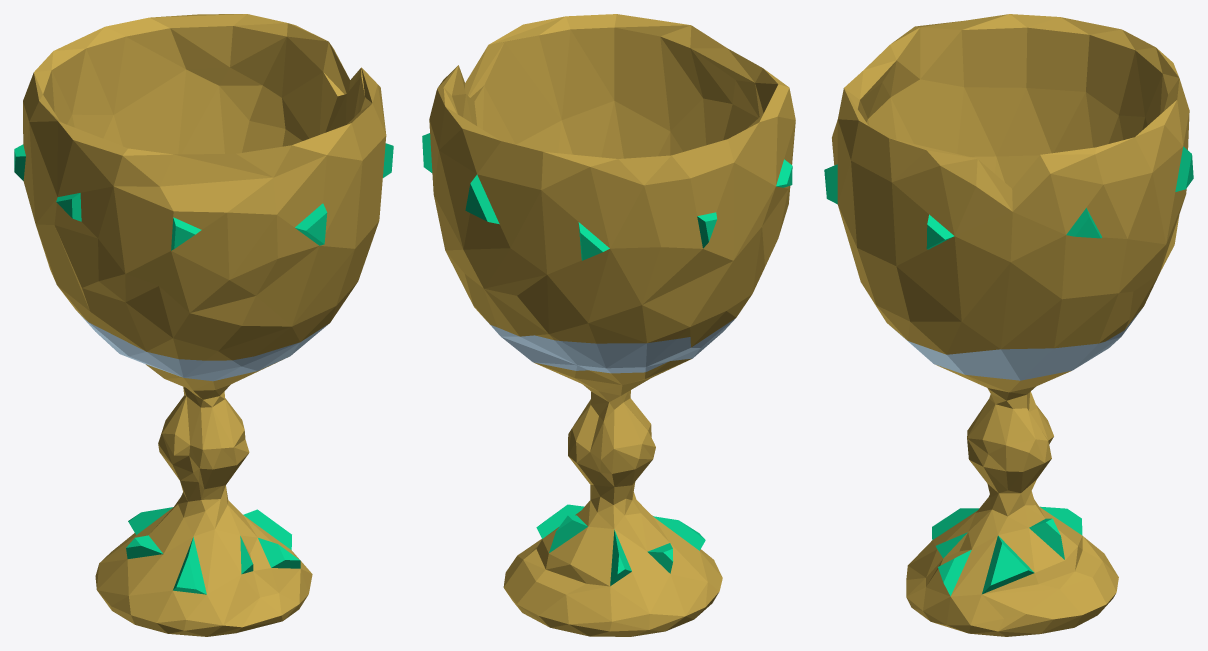
The model's file is esfandyars grail.glb.
The picture shows the model from 3 angles, left to right: view 1: azimuth 30°, elevation 25°; view 2: azimuth 150°, elevation 25°; view 3: azimuth 270°, elevation 25°; orthographic projection.
Parts seen in each view (by area): view 1: Cube; view 2: Cube; view 3: Cube.
Part boxes in pixels (x1,y1,x2,y2): Cube: [14, 14, 393, 636]; Cube: [422, 14, 795, 636]; Cube: [824, 14, 1193, 636].
Bounding box in the file's own units: 0.13 × 0.1991 × 0.1308.
